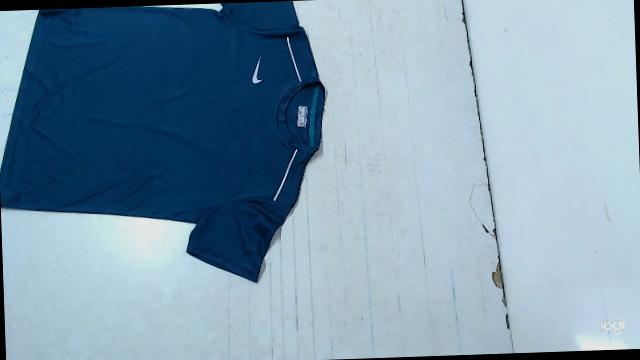new-garment: (0, 1, 325, 281)
